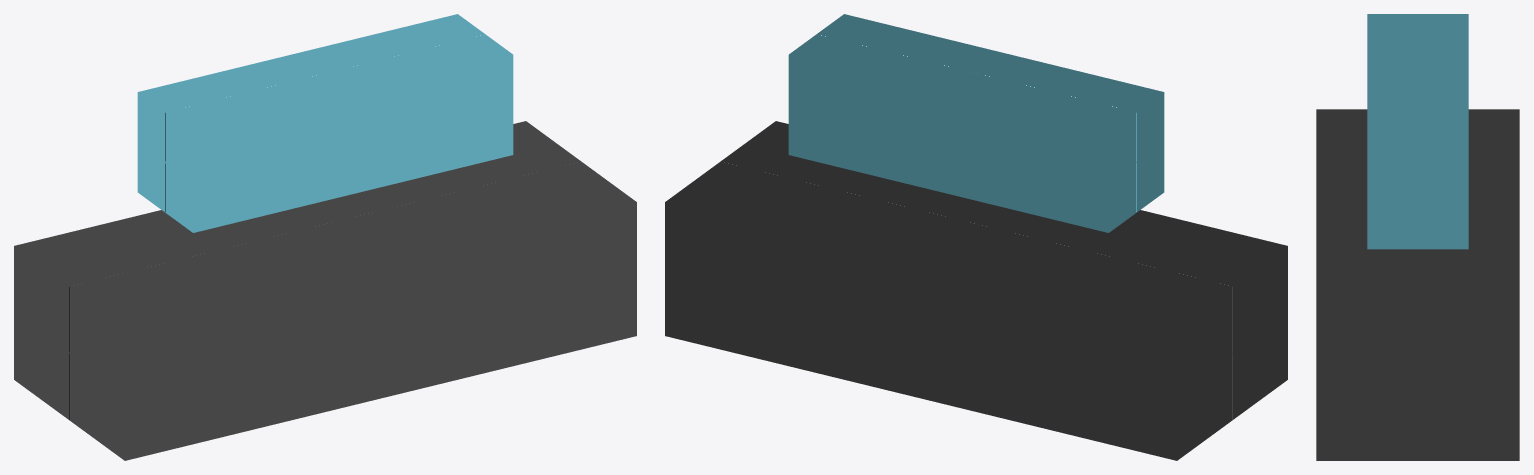
Rendered from sequential_logic.glb.
3 renders of one model, left to right at view 1: azimuth 30°, elevation 25°; view 2: azimuth 150°, elevation 25°; view 3: azimuth 270°, elevation 25°, orthographic. The views are drawn at different scales.
Parts seen in each view (by area): view 1: DualFlipFlopIC, CounterLEDBar; view 2: DualFlipFlopIC, CounterLEDBar; view 3: DualFlipFlopIC, CounterLEDBar.
Part boxes in pixels (bbox=[...]): DualFlipFlopIC: bbox=[14, 121, 636, 460]; CounterLEDBar: bbox=[137, 14, 513, 232]; DualFlipFlopIC: bbox=[665, 121, 1287, 460]; CounterLEDBar: bbox=[788, 14, 1164, 232]; DualFlipFlopIC: bbox=[1316, 109, 1519, 460]; CounterLEDBar: bbox=[1367, 14, 1468, 249].
Bounding box in the file's own units: 1.6 × 0.85 × 0.6.
